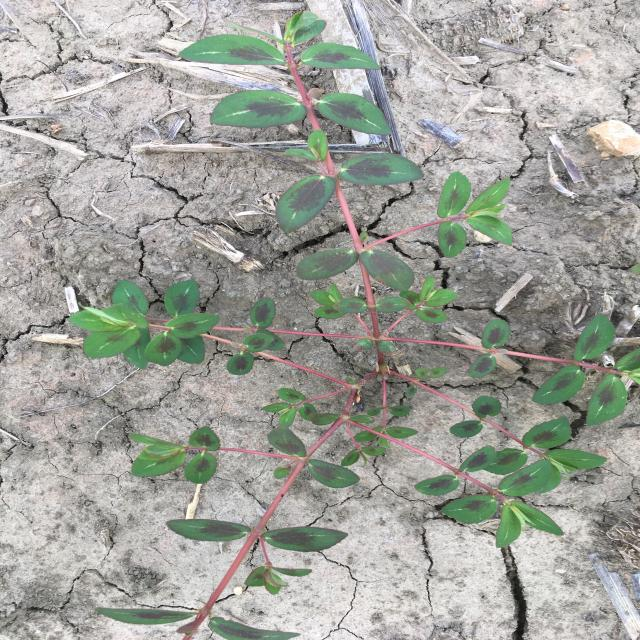SpottedSpurge: (68, 11, 640, 640)
